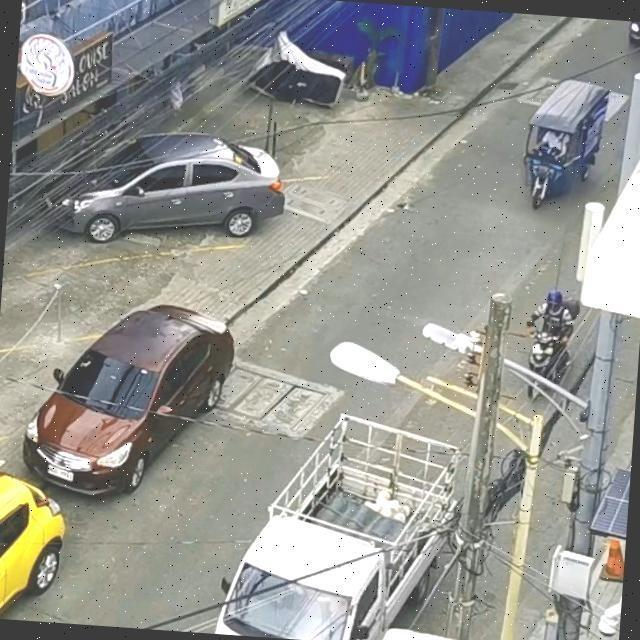Others: (468, 43, 640, 239)
